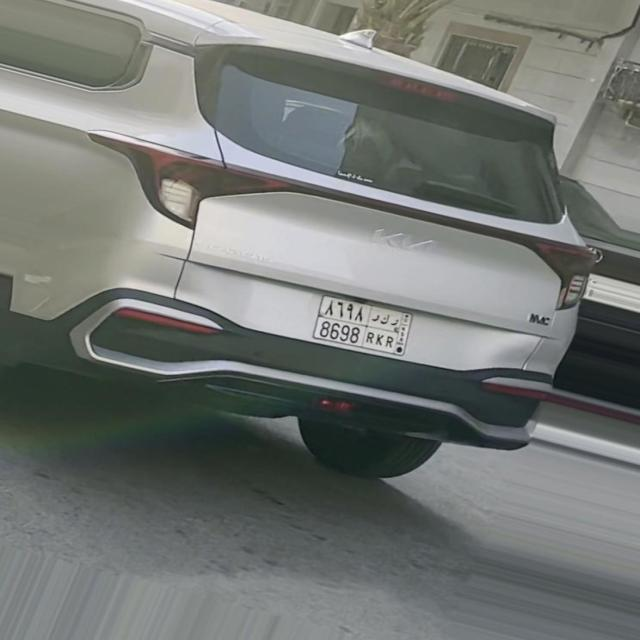Car-plate: (299, 284, 432, 364)
